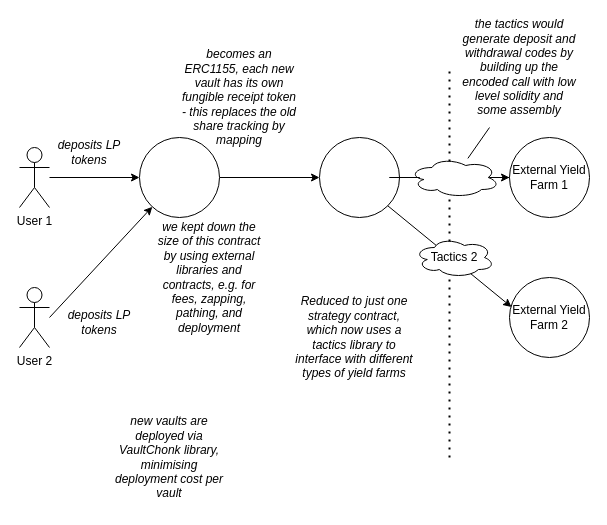
Image size: 607x525. Some labels were removed from this diagram. The shapes that lost their labels are listed below. From the top down, each one's box as (x1, y1, x2, y2) in pixels, then its label:
(138, 136, 220, 218): VaultHealer contract
(318, 136, 400, 218): Strategy contract
(408, 156, 500, 198): Tactics 1
